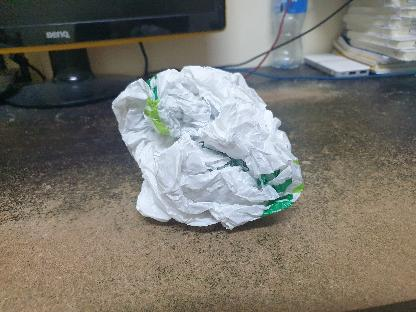Plastic Bag: (112, 66, 304, 232)
